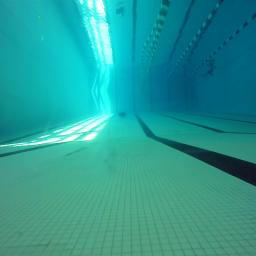Full: (119, 111, 127, 118)
